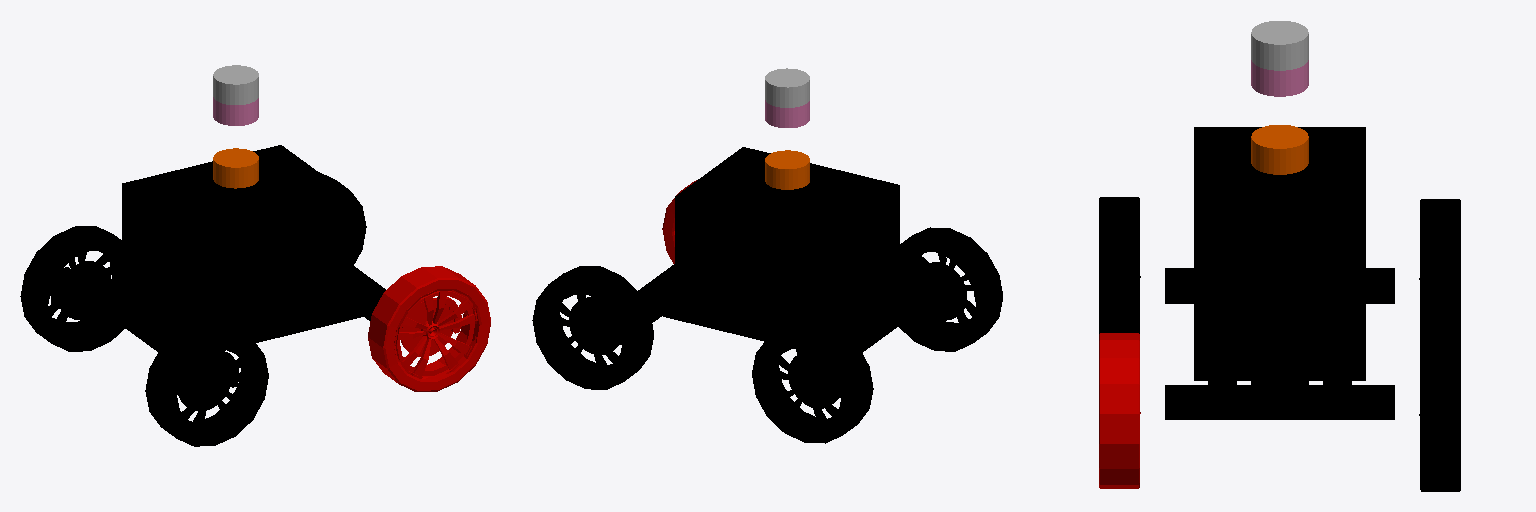
robot.urdf — dobbie:
<?xml version="1.0"?>
<!-- created with Phobos 1.0.1 "Capricious Choutengan" -->
<robot name="dobbie">

  <link name="base_link">
    <inertial>
      <origin xyz="0 0 0" rpy="0 0 0"/>
      <mass value="5.11"/>
      <inertia ixx="0.001" ixy="0" ixz="0" iyy="0.001" iyz="0" izz="0.001"/>
    </inertial>
    <visual name="Body">
      <origin xyz="0 0 0" rpy="0 0 0"/>
      <geometry>
        <mesh filename="../meshes/dae/Cube.004.dae" scale="0.66667 0.5 0.5"/>
      </geometry>
      <material name="rubber.001"/>
    </visual>
    <collision name="Body">
      <origin xyz="0.05 0 -0.0125" rpy="0 0 0"/>
      <geometry>
        <mesh filename="../meshes/dae/Cube.114.dae" scale="1.0 1.0 1.0"/>
      </geometry>
    </collision>
  </link>

  <link name="fl_link">
    <inertial>
      <origin xyz="0 0 0" rpy="0 0 0"/>
      <mass value="1.0"/>
      <inertia ixx="0.001" ixy="0" ixz="0" iyy="0.001" iyz="0" izz="0.001"/>
    </inertial>
    <visual name="FrontLeft">
      <origin xyz="0 0 0" rpy="0 0 0"/>
      <geometry>
        <mesh filename="../meshes/dae/Circle.002.dae" scale="0.015 0.015 0.01"/>
      </geometry>
      <material name="rubber.001"/>
    </visual>
    <collision name="FrontLeft">
      <origin xyz="0.00161 0.00438 0.00609" rpy="0 0 0"/>
      <geometry>
        <cylinder radius="0.13644" length="0.07393"/>
      </geometry>
    </collision>
  </link>

  <link name="fr_link">
    <inertial>
      <origin xyz="0 0 0" rpy="0 0 0"/>
      <mass value="1.0"/>
      <inertia ixx="0.001" ixy="0" ixz="0" iyy="0.001" iyz="0" izz="0.001"/>
    </inertial>
    <visual name="FrontRight">
      <origin xyz="0 0 0" rpy="0 0 0"/>
      <geometry>
        <mesh filename="../meshes/dae/Circle.001.dae" scale="0.015 0.015 0.01"/>
      </geometry>
      <material name="rim.002"/>
    </visual>
    <collision name="FrontRight">
      <origin xyz="0.00161 0.00438 0.00609" rpy="0 0 0"/>
      <geometry>
        <cylinder radius="0.13644" length="0.07393"/>
      </geometry>
    </collision>
  </link>

  <link name="rl_link">
    <inertial>
      <origin xyz="0 0 0" rpy="0 0 0"/>
      <mass value="1.0"/>
      <inertia ixx="0.001" ixy="0" ixz="0" iyy="0.001" iyz="0" izz="0.001"/>
    </inertial>
    <visual name="RearLeft">
      <origin xyz="0 0 0" rpy="0 0 0"/>
      <geometry>
        <mesh filename="../meshes/dae/Circle.023.dae" scale="0.015 0.015 0.01"/>
      </geometry>
      <material name="rubber.001"/>
    </visual>
    <collision name="RearLeft">
      <origin xyz="0.00161 0.00438 0.00609" rpy="0 0 0"/>
      <geometry>
        <cylinder radius="0.13644" length="0.07393"/>
      </geometry>
    </collision>
  </link>

  <link name="rr_link">
    <inertial>
      <origin xyz="0 0 0" rpy="0 0 0"/>
      <mass value="1.0"/>
      <inertia ixx="0.001" ixy="0" ixz="0" iyy="0.001" iyz="0" izz="0.001"/>
    </inertial>
    <visual name="RearRight">
      <origin xyz="0 0 0" rpy="0 0 0"/>
      <geometry>
        <mesh filename="../meshes/dae/Circle.003.dae" scale="0.015 0.015 0.01"/>
      </geometry>
      <material name="rubber.001"/>
    </visual>
    <collision name="RearRight">
      <origin xyz="0.00161 0.00438 0.00609" rpy="0 0 0"/>
      <geometry>
        <cylinder radius="0.13644" length="0.07393"/>
      </geometry>
    </collision>
  </link>

  <link name="gps_link">
    <visual name="gps_link_visual">
      <origin xyz="0 0 0" rpy="0 0 0"/>
      <geometry>
        <cylinder radius="0.05" length="0.05"/>
      </geometry>
    </visual>
  </link>

  <link name="lidar_link">
    <visual name="lidar_link_visual">
      <origin xyz="0 0 0" rpy="0 0 0"/>
      <geometry>
        <cylinder radius="0.05" length="0.05"/>
      </geometry>
    </visual>
  </link>

  <link name="imu_link">
    <visual name="imu_link_visual">
      <origin xyz="0 0 0" rpy="0 0 0"/>
      <geometry>
        <cylinder radius="0.05" length="0.05"/>
      </geometry>
    </visual>
  </link>

  <joint name="fl_link" type="continuous">
    <origin xyz="0.33 0.28497 -0.14839" rpy="1.5708 1.5708 0"/>
    <parent link="base_link"/>
    <child link="fl_link"/>
    <axis xyz="0 0 1.0"/>
    <limit effort="5000.0" velocity="3.06"/>
  </joint>

  <joint name="fr_link" type="continuous">
    <origin xyz="0.33 -0.28497 -0.14839" rpy="-1.5708 1.5708 0"/>
    <parent link="base_link"/>
    <child link="fr_link"/>
    <axis xyz="0 0 1.0"/>
    <limit effort="5000.0" velocity="3.06"/>
  </joint>

  <joint name="rl_link" type="continuous">
    <origin xyz="-0.23 0.28497 -0.14839" rpy="1.5708 1.5708 0"/>
    <parent link="base_link"/>
    <child link="rl_link"/>
    <axis xyz="0 0 1.0"/>
    <limit effort="5000.0" velocity="3.06"/>
  </joint>

  <joint name="rr_link" type="continuous">
    <origin xyz="-0.23 -0.28497 -0.14839" rpy="-1.5708 1.5708 0"/>
    <parent link="base_link"/>
    <child link="rr_link"/>
    <axis xyz="0 0 1.0"/>
    <limit effort="5000.0" velocity="3.06"/>
  </joint>

  <joint name="gps_link" type="fixed">
    <origin xyz="0 0 0.2" rpy="0 0.0 0"/>
    <parent link="base_link"/>
    <child link="gps_link"/>
  </joint>

  <joint name="lidar_link" type="fixed">
    <origin xyz="0 0 0.35" rpy="0 0.0 0"/>
    <parent link="base_link"/>
    <child link="lidar_link"/>
  </joint>

  <joint name="imu_link" type="fixed">
    <origin xyz="0 0 0.4" rpy="0 0.0 0"/>
    <parent link="base_link"/>
    <child link="imu_link"/>
  </joint>

  <material name="rim.002">
    <color rgba="0.7981 0.0218 0.00563 1.0"/>
  </material>

  <material name="rubber.001">
    <color rgba="0 0 0 1.0"/>
  </material>

</robot>

--- Render facts (derived) ---
The picture shows the robot from 3 angles, left to right: view 1: azimuth 30°, elevation 25°; view 2: azimuth 150°, elevation 25°; view 3: azimuth 270°, elevation 25°; orthographic projection.
Robot: dobbie — 8 links, 7 joints (4 continuous, 3 fixed); root link base_link; default pose: all joints at 0.
Visible links, largest first — view 1: base_link, fr_link, rr_link, rl_link, imu_link, gps_link, fl_link, lidar_link; view 2: base_link, fl_link, rl_link, rr_link, gps_link, imu_link, lidar_link, fr_link; view 3: base_link, fl_link, fr_link, rl_link, rr_link, imu_link, gps_link, lidar_link.
Link boxes in pixels (left/top/right/bottom): base_link: left=95, top=145, right=385, bottom=352; fr_link: left=368, top=266, right=490, bottom=391; rr_link: left=145, top=321, right=268, bottom=446; rl_link: left=20, top=226, right=124, bottom=351; imu_link: left=213, top=65, right=258, bottom=104; gps_link: left=213, top=148, right=258, bottom=188; fl_link: left=319, top=172, right=366, bottom=265; lidar_link: left=213, top=97, right=258, bottom=125; base_link: left=638, top=147, right=926, bottom=352; fl_link: left=532, top=266, right=653, bottom=389; rl_link: left=752, top=319, right=873, bottom=443; rr_link: left=898, top=227, right=1002, bottom=351; gps_link: left=765, top=150, right=809, bottom=189; imu_link: left=765, top=68, right=809, bottom=107; lidar_link: left=765, top=100, right=809, bottom=127; fr_link: left=662, top=180, right=696, bottom=263; base_link: left=1165, top=127, right=1394, bottom=419; fl_link: left=1419, top=335, right=1460, bottom=491; fr_link: left=1099, top=333, right=1140, bottom=488; rl_link: left=1419, top=199, right=1460, bottom=335; rr_link: left=1099, top=197, right=1140, bottom=333; imu_link: left=1251, top=21, right=1308, bottom=70; gps_link: left=1251, top=125, right=1308, bottom=174; lidar_link: left=1251, top=60, right=1308, bottom=96.
Size in the robot's own frame: 0.8416 by 0.6317 by 0.7114 metres.
Meshes: 5 distinct files referenced, 5 mesh visuals loaded (5 Collada DAE).